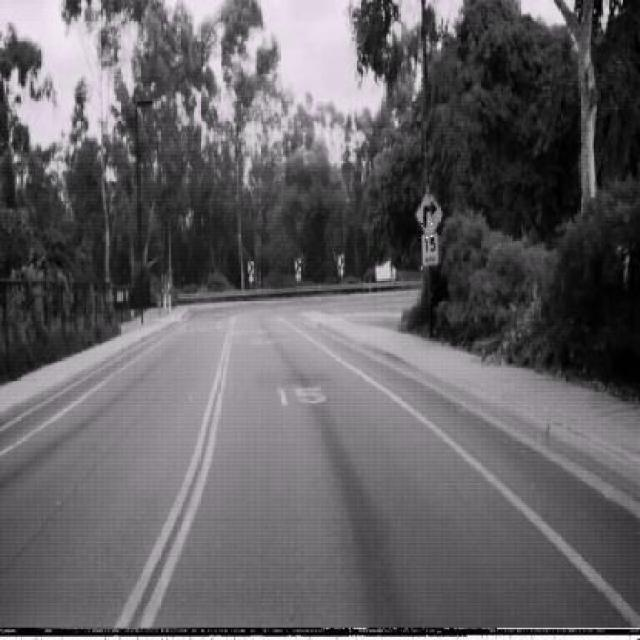turnRight: (416, 185, 444, 241)
